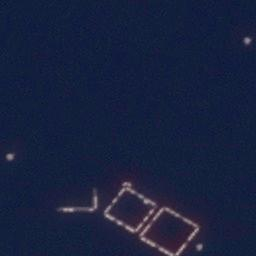square_solid: (135, 202, 203, 256), (100, 182, 161, 237)
